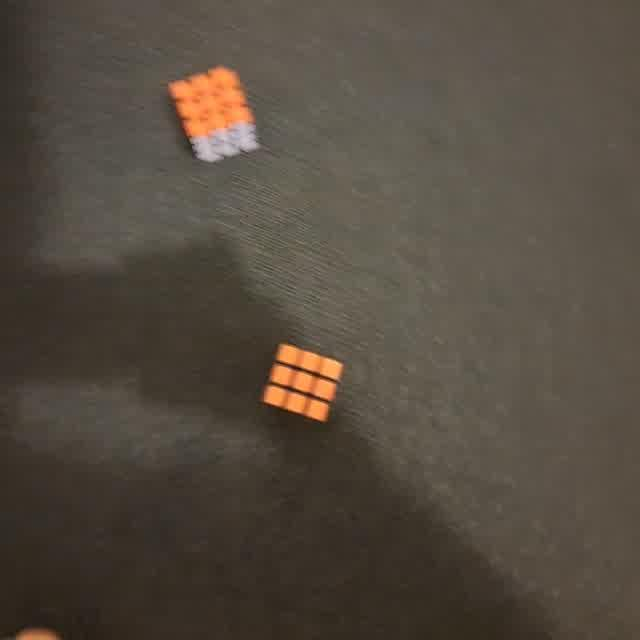rubix_cube: (164, 62, 265, 166), (257, 341, 346, 428)
